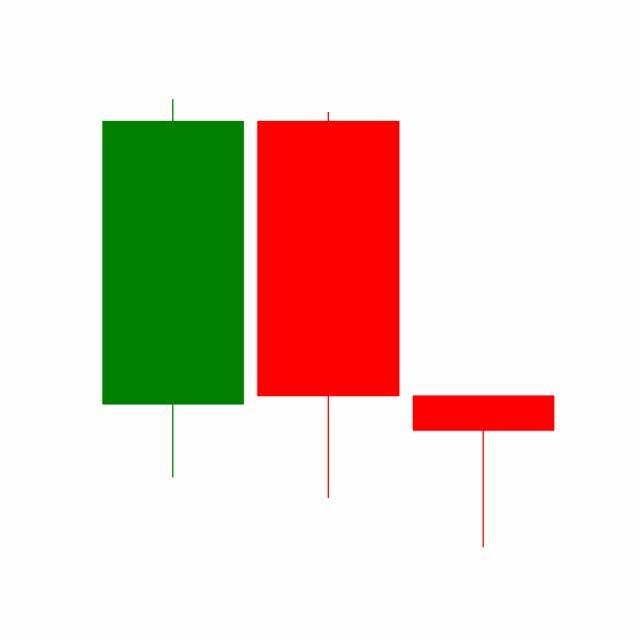Dragonfly Doji: (406, 394, 562, 549)
